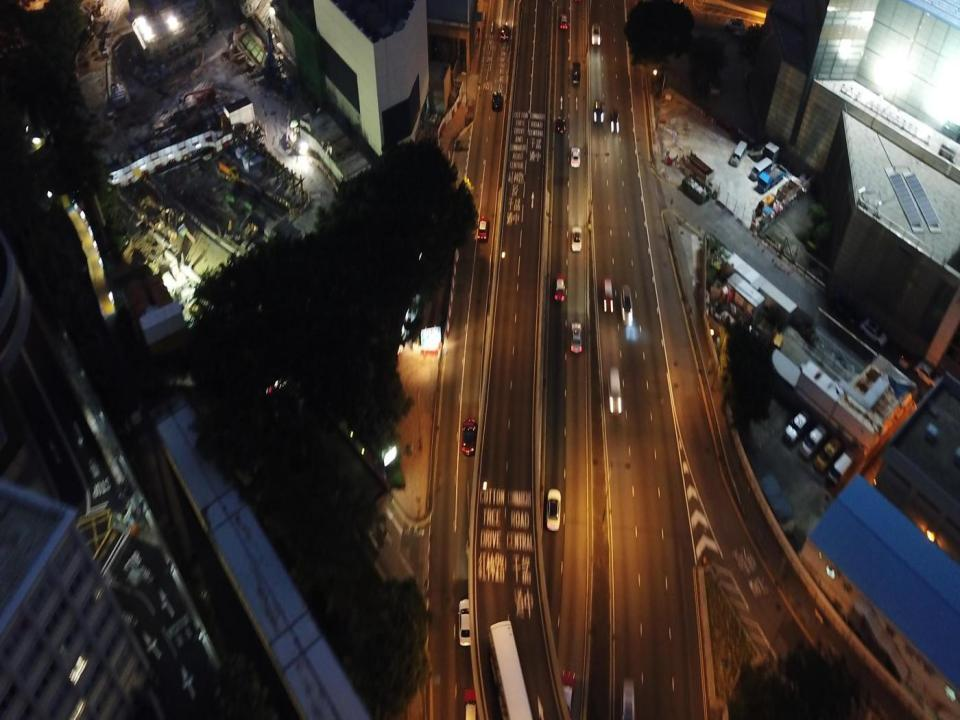bus: (489, 621, 535, 719)
car: (457, 598, 474, 646), (559, 670, 573, 714), (462, 419, 478, 455), (547, 489, 560, 530), (622, 679, 635, 719), (464, 688, 480, 719), (602, 277, 614, 311), (570, 322, 581, 352), (570, 226, 582, 253), (554, 275, 565, 301), (478, 216, 489, 240), (610, 110, 620, 134), (570, 147, 581, 167), (593, 102, 604, 122), (572, 59, 580, 85), (491, 90, 501, 110), (556, 115, 567, 133), (592, 23, 600, 46), (500, 24, 509, 41), (558, 14, 568, 29)
truck: (758, 165, 786, 193)
van: (815, 437, 842, 470), (800, 425, 826, 458), (785, 410, 811, 442), (830, 452, 852, 485), (607, 367, 622, 413), (619, 284, 634, 325), (751, 157, 772, 179), (731, 139, 747, 167)
